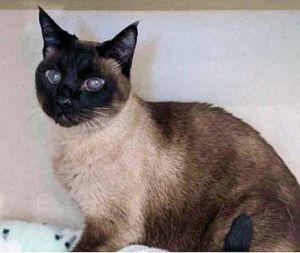siamese: (31, 7, 143, 134)
